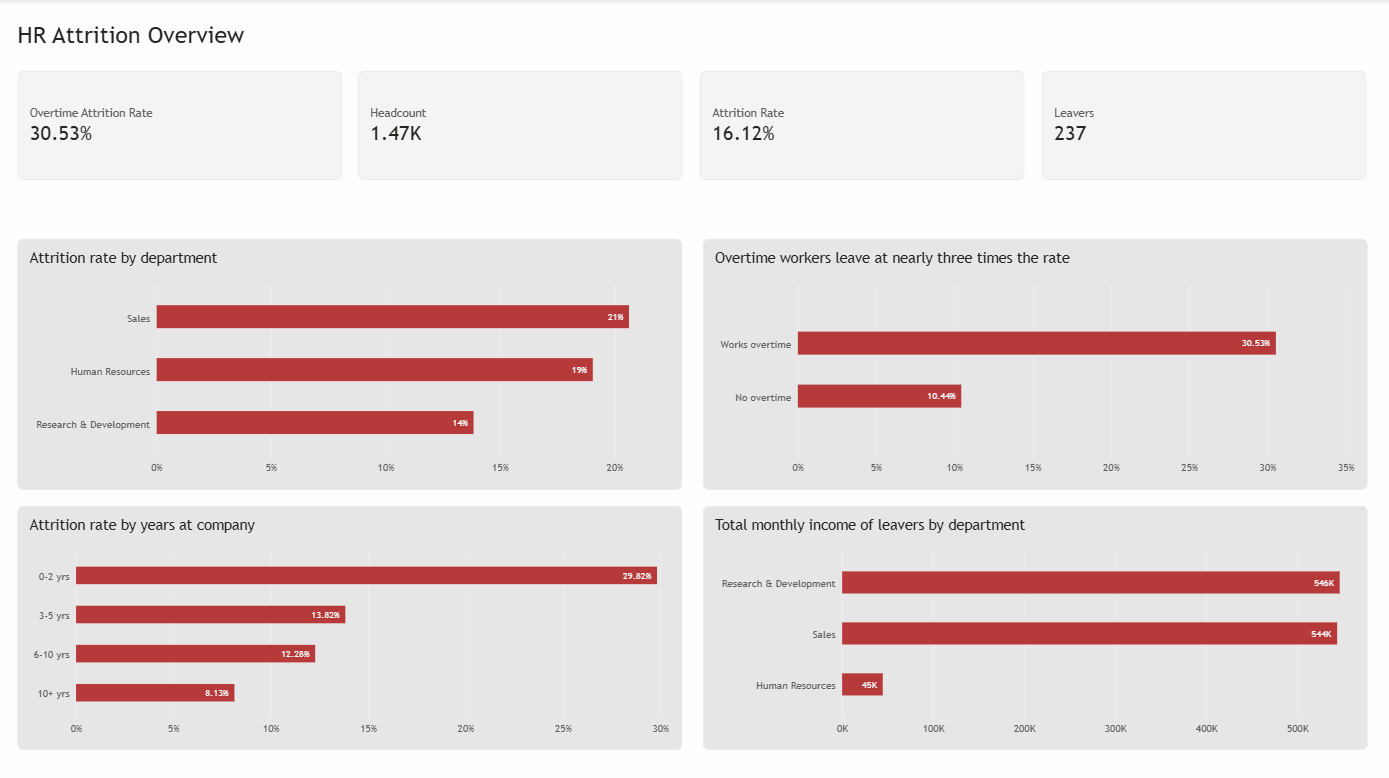

What the dashboard file says about the page in this screenshot:
{"tool":"powerbi","page":{"name":"Page 1","canvas":[1920,1080],"ordinal":0},"visuals":[{"type":"clusteredBarChart","title":"Attrition rate by department","fields":{"Category":["Department.Department"],"Y":["Employees.Attrition Rate"]},"box":[30,330,915,345],"z":0},{"type":"cardVisual","fields":{"Data":["Employees.Overtime Attrition Rate"]},"box":[30,100,447,150],"z":1000},{"type":"clusteredBarChart","title":"Attrition rate by years at company","fields":{"Category":["Employees.TenureBand"],"Y":["Employees.Attrition Rate"]},"box":[30,699,915,336],"z":2000},{"type":"clusteredBarChart","title":"Total monthly income of leavers by department","fields":{"Category":["Department.Department"],"Y":["Employees.Leaver Monthly Income"]},"box":[975,699,915,336],"z":3000},{"type":"cardVisual","fields":{"Data":["Employees.Headcount"]},"box":[501,100,447,150],"z":4000},{"type":"cardVisual","fields":{"Data":["Employees.Leavers"]},"box":[1443,100,447,150],"z":5000},{"type":"cardVisual","fields":{"Data":["Employees.Attrition Rate"]},"box":[972,100,447,150],"z":6000},{"type":"textbox","box":[30,15,1860,75],"z":7000},{"type":"clusteredBarChart","title":"Overtime workers leave at nearly three times the rate","fields":{"Category":["Employees.Overtime Status"],"Y":["Employees.Attrition Rate"]},"box":[975,330,915,345],"z":8000}]}

Visuals, with their boxes in screenshot pixels (x1, y1, x2, y2), scaled from the page's 1920x1080 canvas onto the 1389x778 screenshot:
"Attrition rate by department" clusteredBarChart: (x1=22, y1=238, x2=684, y2=486)
cardVisual - Employees.Overtime Attrition Rate: (x1=22, y1=72, x2=345, y2=180)
"Attrition rate by years at company" clusteredBarChart: (x1=22, y1=504, x2=684, y2=746)
"Total monthly income of leavers by department" clusteredBarChart: (x1=705, y1=504, x2=1367, y2=746)
cardVisual - Employees.Headcount: (x1=362, y1=72, x2=686, y2=180)
cardVisual - Employees.Leavers: (x1=1044, y1=72, x2=1367, y2=180)
cardVisual - Employees.Attrition Rate: (x1=703, y1=72, x2=1027, y2=180)
textbox: (x1=22, y1=11, x2=1367, y2=65)
"Overtime workers leave at nearly three times the rate" clusteredBarChart: (x1=705, y1=238, x2=1367, y2=486)
